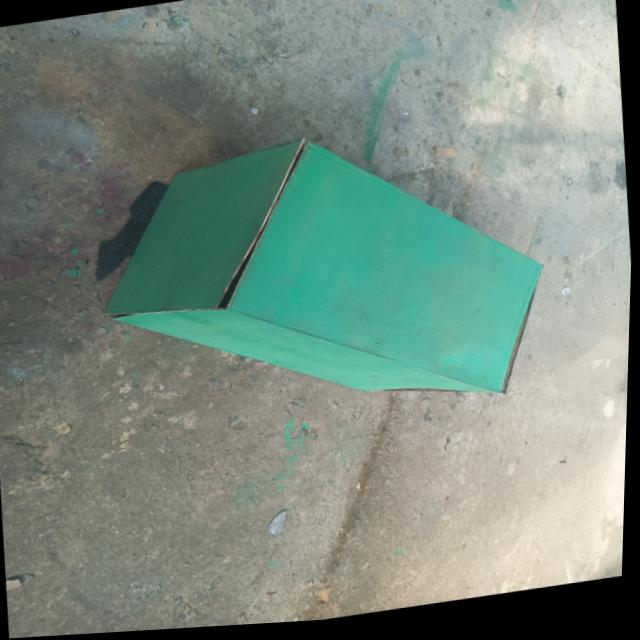green_box: (81, 97, 597, 464)
